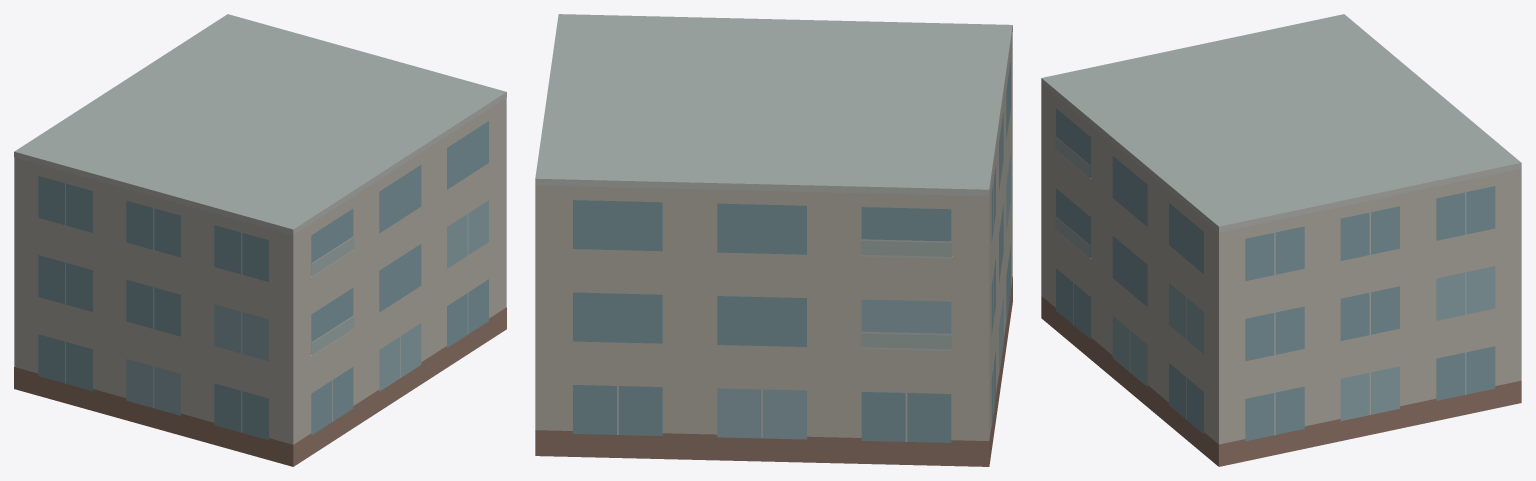
File: survey-upis-32840627.glb
3 renders of one model, left to right at view 1: azimuth 30°, elevation 25°; view 2: azimuth 150°, elevation 25°; view 3: azimuth 270°, elevation 25°, orthographic. The views are drawn at different scales.
Visible parts, largest first — view 1: survey-upis-32840627.tmp; view 2: survey-upis-32840627.tmp; view 3: survey-upis-32840627.tmp.
Boxes of the visible parts, x1=… form: survey-upis-32840627.tmp: x1=14, y1=14, x2=506, y2=466; survey-upis-32840627.tmp: x1=535, y1=14, x2=1012, y2=466; survey-upis-32840627.tmp: x1=1041, y1=14, x2=1521, y2=466.
Size of the model in its own units: 19.38 by 10.2 by 18.49.
